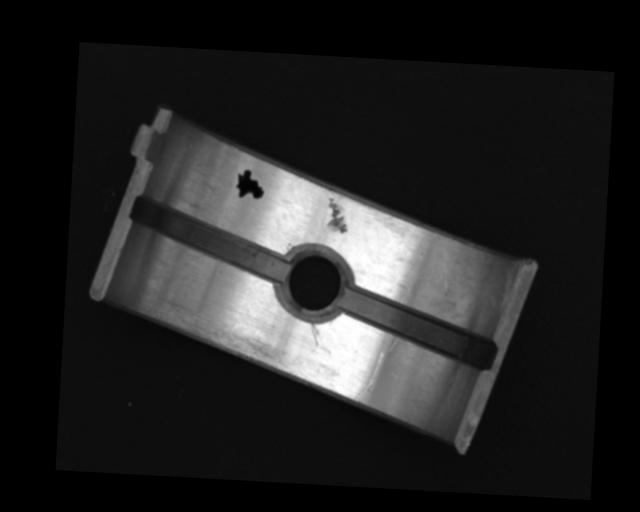blot: (235, 169, 265, 199)
bruise: (325, 197, 349, 234)
gap: (128, 196, 290, 283), (339, 289, 496, 367)
hole: (277, 245, 350, 321)
nick: (354, 350, 385, 404), (308, 321, 320, 347)
scratch: (148, 309, 289, 370)
